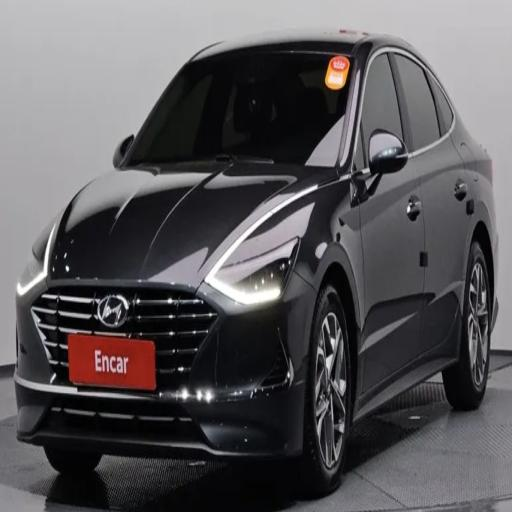normal: (11, 11, 510, 497)
